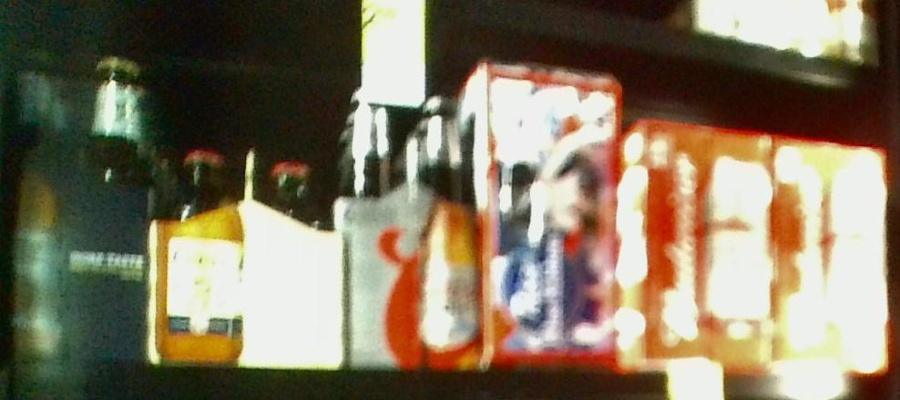bottle: (1, 50, 158, 369), (476, 55, 623, 373), (158, 144, 344, 367), (347, 85, 485, 370), (624, 120, 772, 364), (772, 131, 885, 375)
